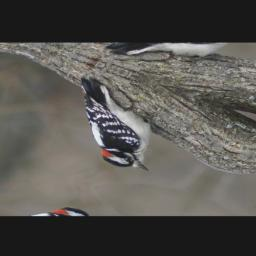Woodpecker: (31, 74, 194, 176)
